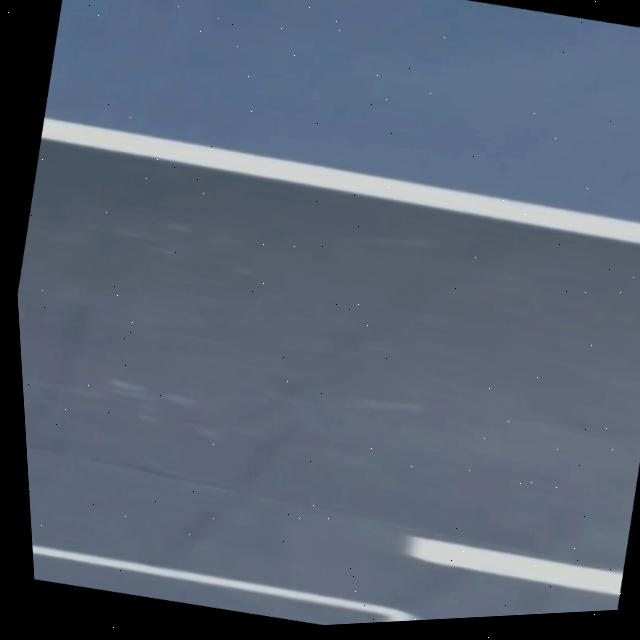center: (403, 535, 623, 595)
left: (40, 117, 640, 243)
